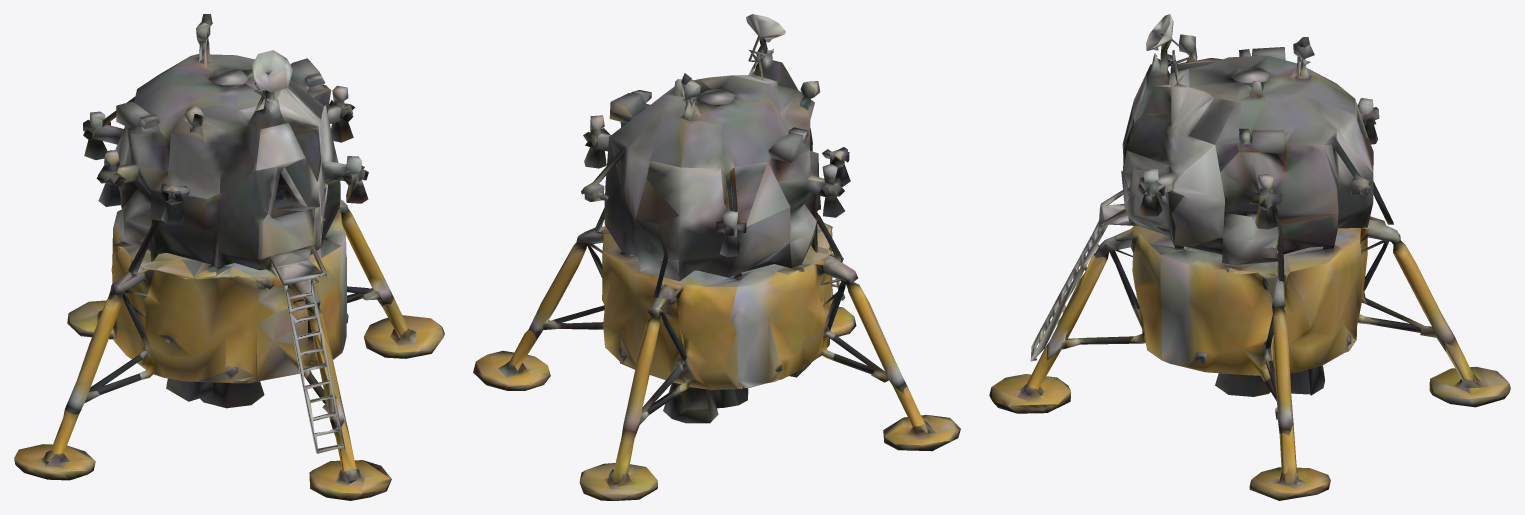
File: lander.glb
3 views of the same model, side by side, from view 1: azimuth 30°, elevation 25°; view 2: azimuth 150°, elevation 25°; view 3: azimuth 270°, elevation 25° (orthographic). The views are drawn at different scales.
Parts seen in each view (by area): view 1: LO.001; view 2: LO.001; view 3: LO.001.
Part boxes in pixels (<box>): LO.001: <box>14,14,444,500</box>; LO.001: <box>473,14,960,500</box>; LO.001: <box>989,14,1510,500</box>.
Bounding box in the file's own units: 9.99 × 7.95 × 9.99.
Materials: 1 (1 with a texture image).
